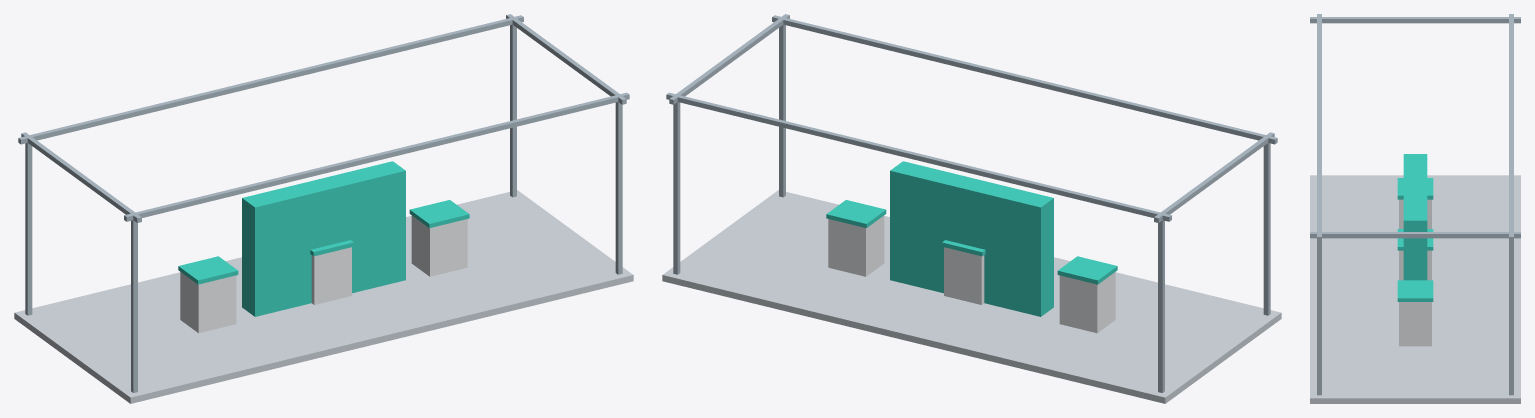
3 views of the same model, side by side, from view 1: azimuth 30°, elevation 25°; view 2: azimuth 150°, elevation 25°; view 3: azimuth 270°, elevation 25° (orthographic). The views are drawn at different scales.
Visible parts, largest first — view 1: Exhibition Booth Concept; view 2: Exhibition Booth Concept; view 3: Exhibition Booth Concept.
Part boxes in pixels (bbox=[...]): Exhibition Booth Concept: bbox=[14, 14, 633, 403]; Exhibition Booth Concept: bbox=[662, 14, 1281, 403]; Exhibition Booth Concept: bbox=[1310, 14, 1520, 403].
Size of the model in its own units: 10 by 3.49 by 4.
